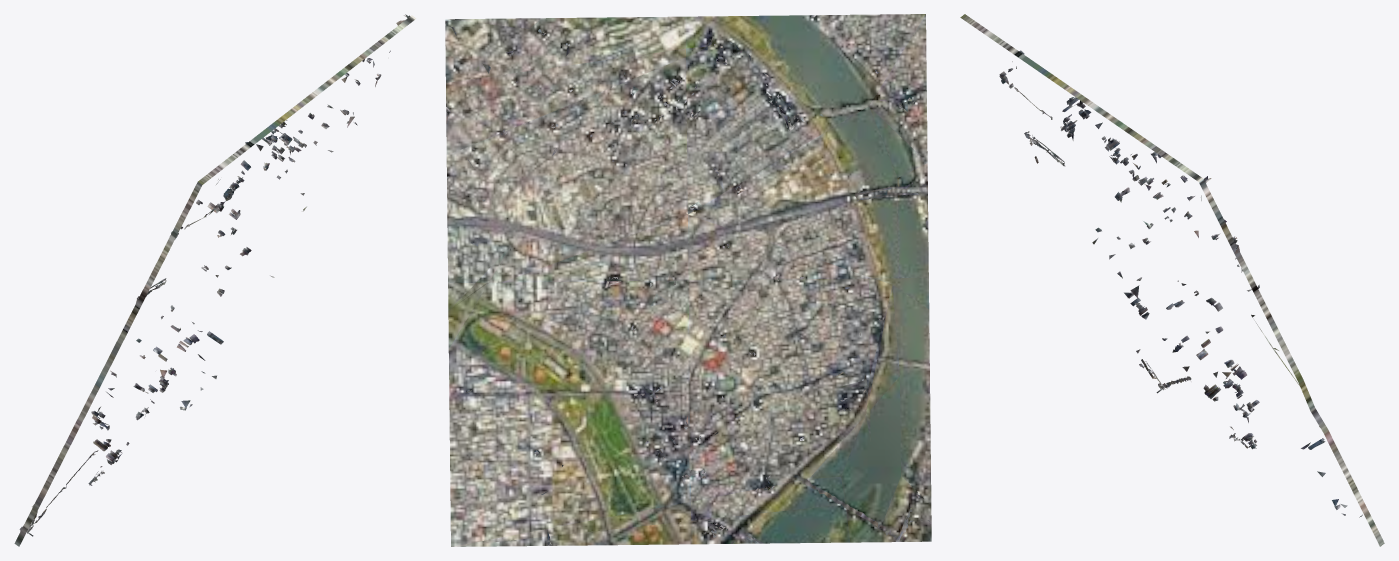
3 views of the same model, side by side, from view 1: azimuth 30°, elevation 25°; view 2: azimuth 150°, elevation 25°; view 3: azimuth 270°, elevation 25° (orthographic). The views are drawn at different scales.
Size of the model in its own units: 4896 by 4451 by 4128.
1 material, 1 textured.
